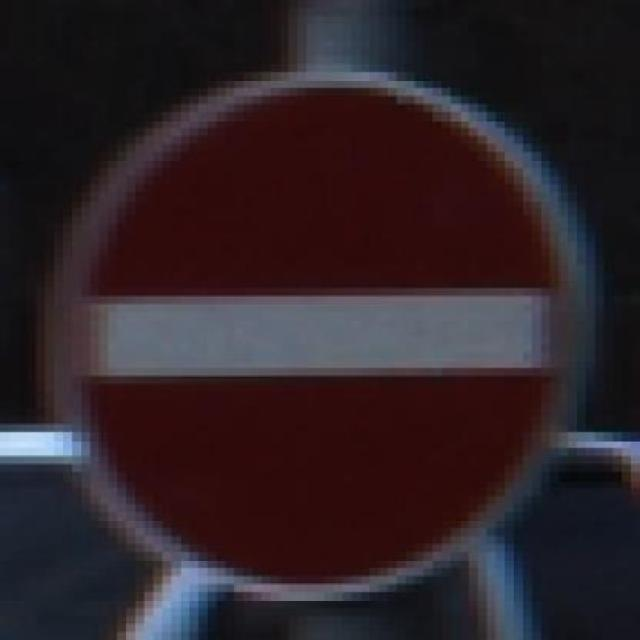No Entry: (45, 64, 604, 601)
